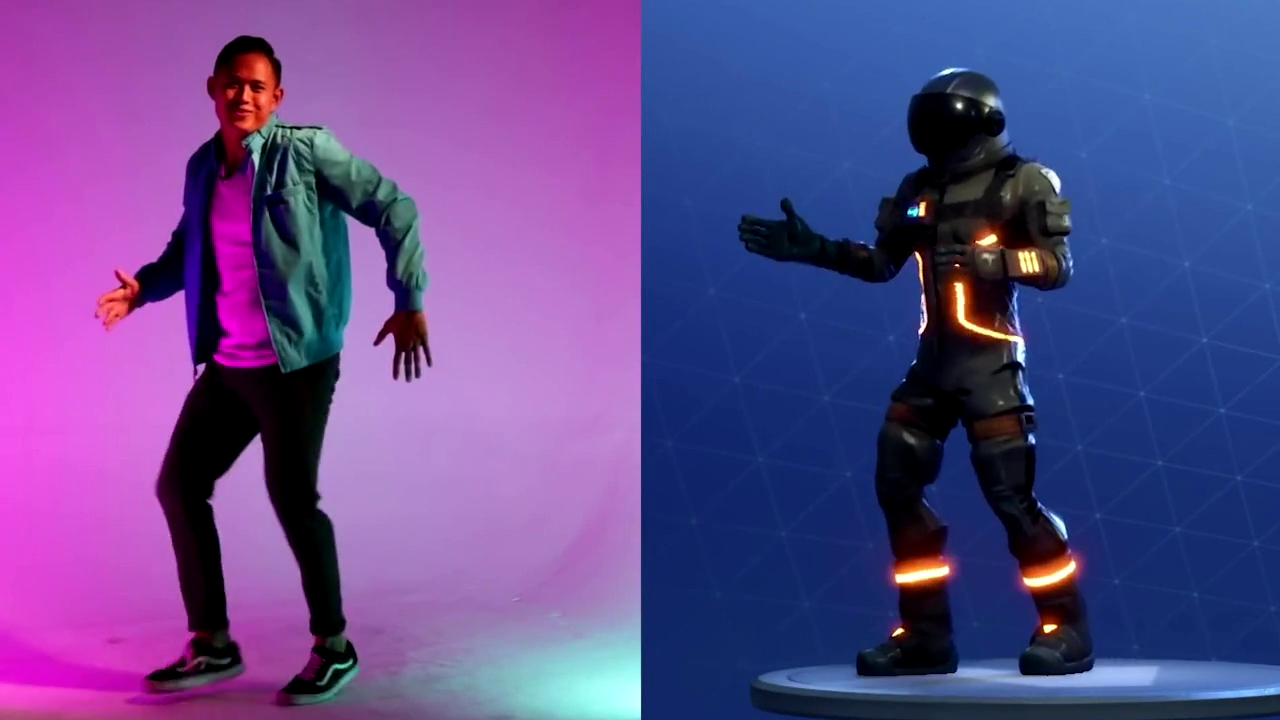Head: (198, 23, 295, 153)
Hip: (169, 329, 365, 441)
LeftAnkle: (260, 619, 384, 717)
LeftElbow: (358, 174, 448, 250)
LeftKnee: (251, 471, 359, 541)
LeftShoulder: (277, 109, 364, 198)
LeftWrist: (370, 283, 454, 383)
RightAnkle: (128, 609, 250, 715)
RightKnee: (147, 459, 228, 530)
RightShoulder: (147, 117, 233, 194)
RightWrist: (71, 258, 162, 344)
Torso: (186, 143, 324, 381)
